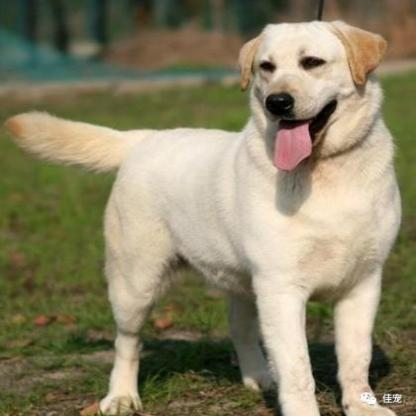Labarador Retriever: (10, 18, 400, 416)
